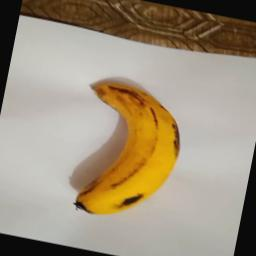Banana Unripe: (65, 70, 194, 228)
